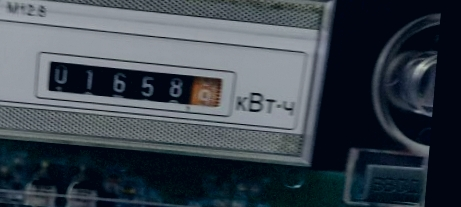0: (51, 62, 69, 85)
1: (80, 66, 96, 91)
5: (138, 73, 156, 98)
6: (109, 69, 129, 95)
8: (166, 75, 185, 98)
9: (194, 86, 212, 108)
screen: (30, 47, 240, 122)
